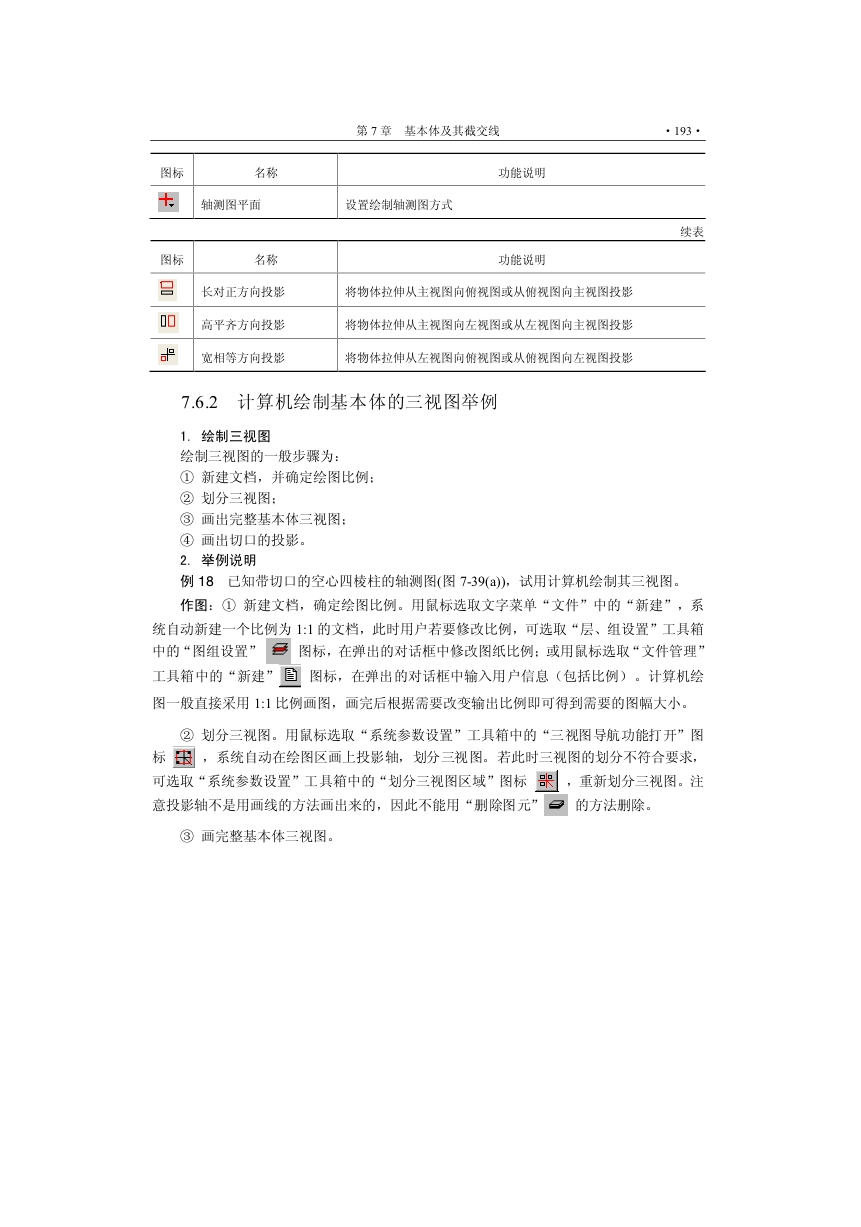table: (149, 151, 705, 371)
